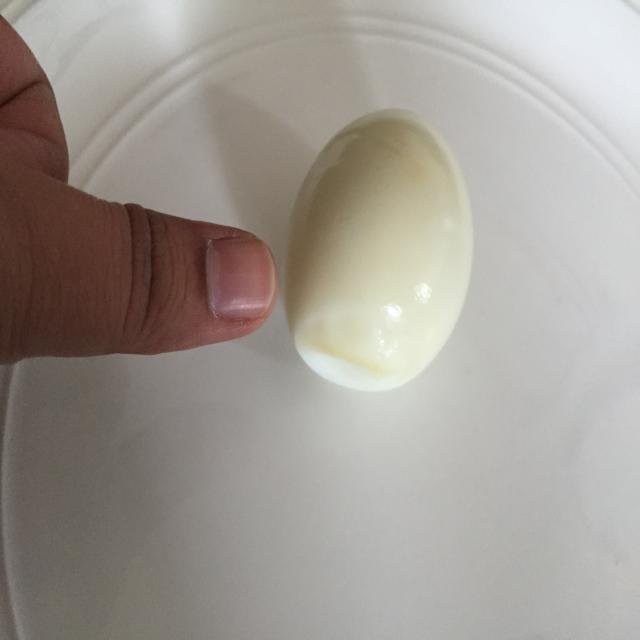Egg: (284, 101, 482, 410)
Finger: (92, 185, 285, 368)
